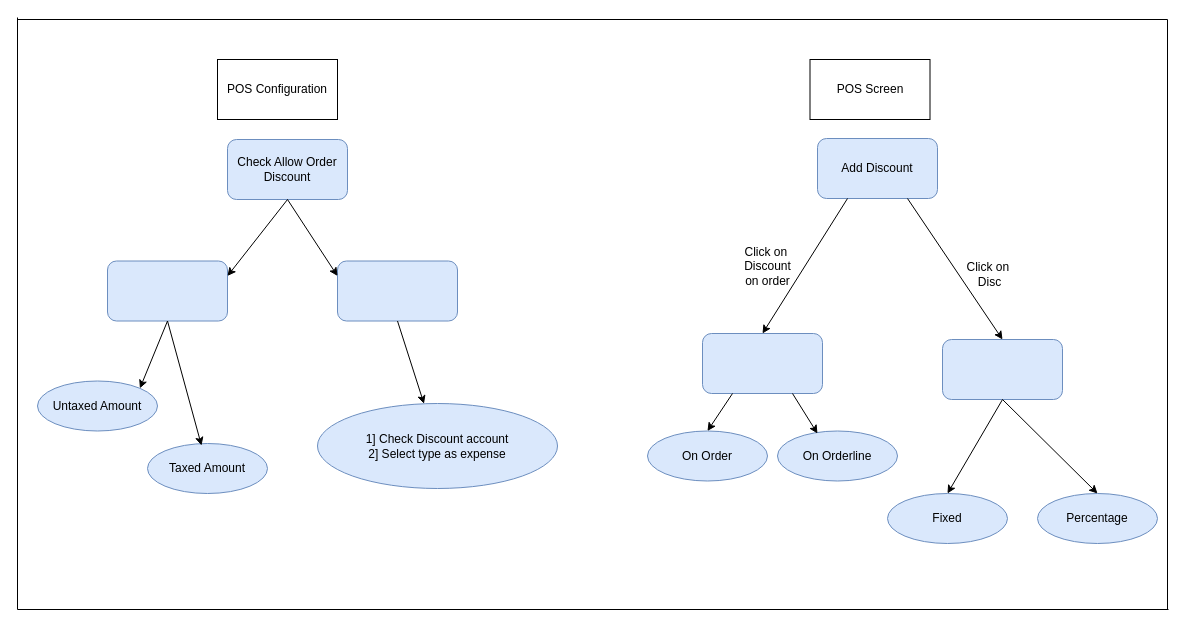
The diagram is 1187 pixels wide and 628 high, and some of its shapes have lost their labels. The shapes that lost their labels are listed below. From the top down, each one's centre as x and y in pixels, then its label:
[167,290]: Order Discount on
[397,290]: Create/Add Discount Account
[762,363]: Select Discount on
[1002,369]: Select Discount type
